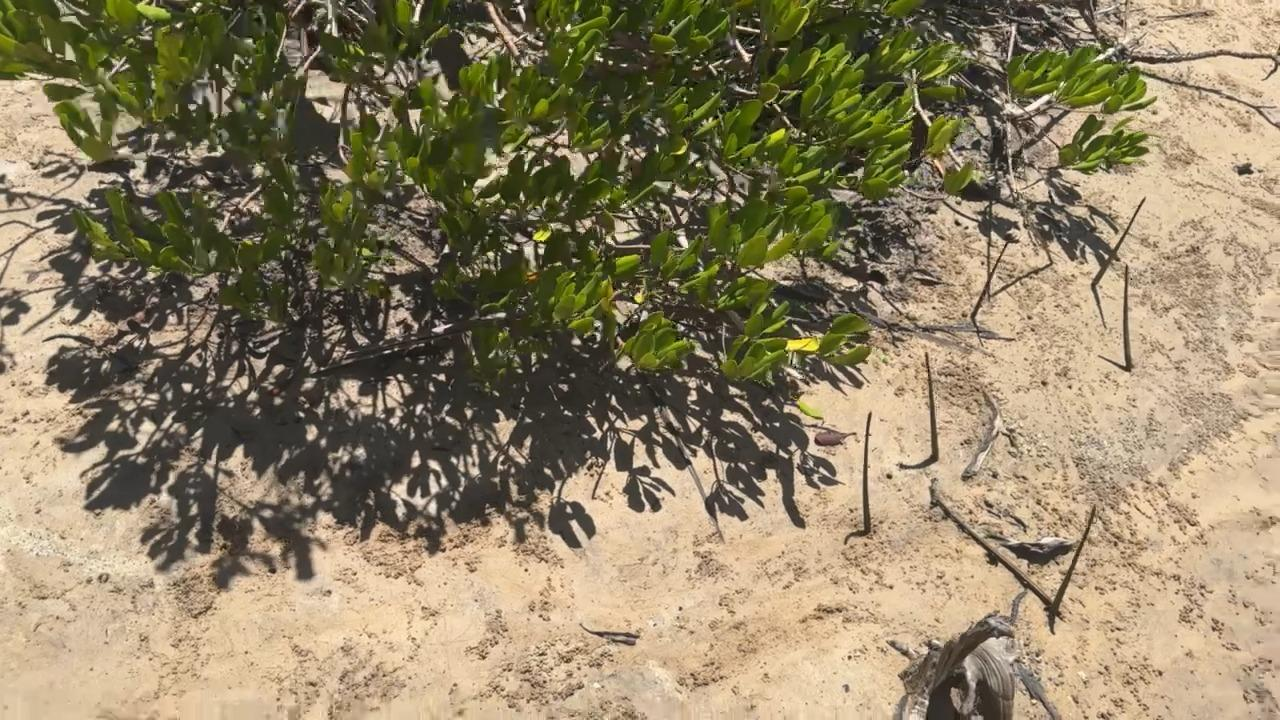Tree: (1046, 504, 1099, 620), (1090, 196, 1148, 289), (970, 240, 1011, 322), (1021, 202, 1054, 267), (923, 350, 940, 463), (1122, 263, 1136, 373), (862, 411, 873, 535)
